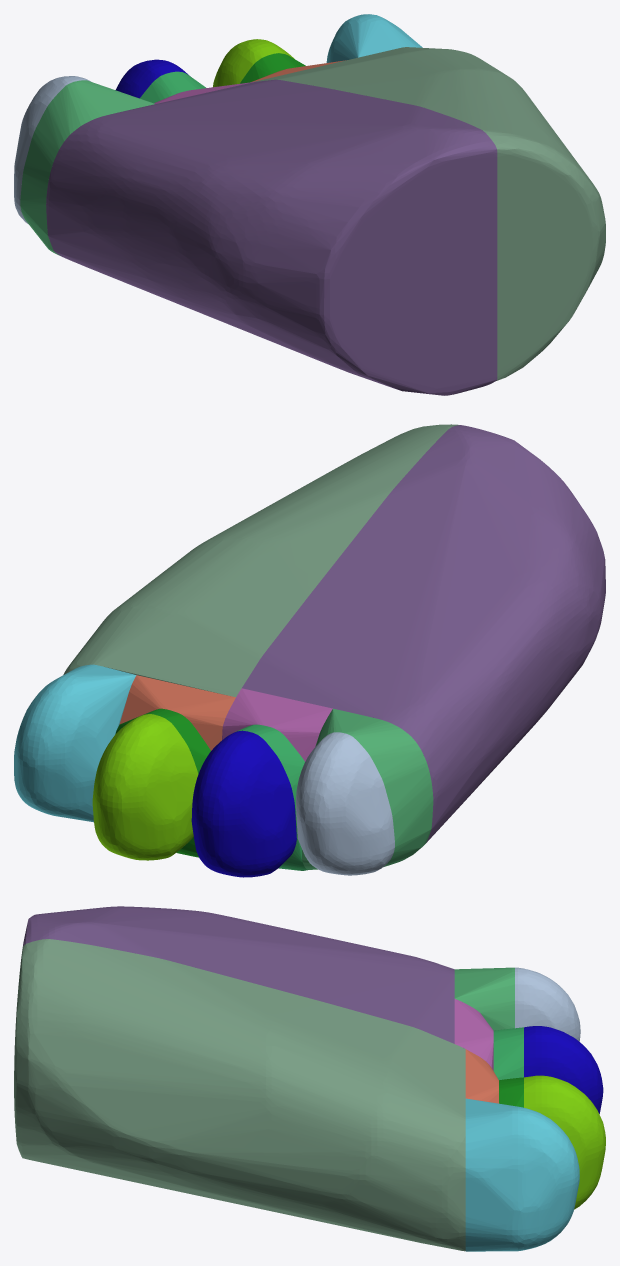
File: FB_palm_ref_MIR.obj
The picture shows the model from 3 angles, top to bottom: view 1: azimuth 30°, elevation 25°; view 2: azimuth 150°, elevation 25°; view 3: azimuth 270°, elevation 25°; orthographic projection. The views are drawn at different scales.
Visible parts, largest first — view 1: geometry_1, geometry_0, geometry_3, geometry_2, geometry_6, geometry_4, geometry_5, geometry_10, geometry_8; view 2: geometry_1, geometry_0, geometry_2, geometry_5, geometry_4, geometry_6, geometry_3, geometry_9, geometry_7, geometry_10, geometry_8; view 3: geometry_0, geometry_1, geometry_2, geometry_4, geometry_5, geometry_6, geometry_3, geometry_7, geometry_10, geometry_9, geometry_8.
Boxes of the visible parts, x1,y1,x2,y2 form: geometry_1: (46, 79, 497, 395); geometry_0: (254, 47, 605, 380); geometry_3: (20, 80, 154, 255); geometry_2: (326, 14, 422, 62); geometry_6: (14, 76, 91, 224); geometry_4: (213, 39, 294, 87); geometry_5: (115, 59, 188, 98); geometry_10: (140, 71, 205, 103); geometry_8: (240, 53, 305, 83); geometry_1: (242, 425, 605, 842); geometry_0: (63, 424, 458, 697); geometry_2: (14, 664, 136, 822); geometry_5: (191, 730, 296, 877); geometry_4: (92, 714, 198, 860); geometry_6: (296, 732, 394, 875); geometry_3: (302, 708, 433, 869); geometry_9: (119, 675, 235, 750); geometry_7: (222, 688, 332, 761); geometry_10: (236, 724, 308, 870); geometry_8: (115, 708, 210, 857); geometry_0: (14, 939, 465, 1251); geometry_1: (23, 906, 454, 1043); geometry_2: (465, 1098, 579, 1251); geometry_4: (524, 1075, 605, 1209); geometry_5: (524, 1026, 603, 1113); geometry_6: (515, 967, 580, 1041); geometry_3: (454, 967, 514, 1030); geometry_7: (454, 999, 493, 1070); geometry_10: (493, 1027, 523, 1080); geometry_9: (465, 1049, 498, 1103); geometry_8: (499, 1077, 523, 1107).
Size of the model in its own units: 0.0827 by 0.0541 by 0.1117.
